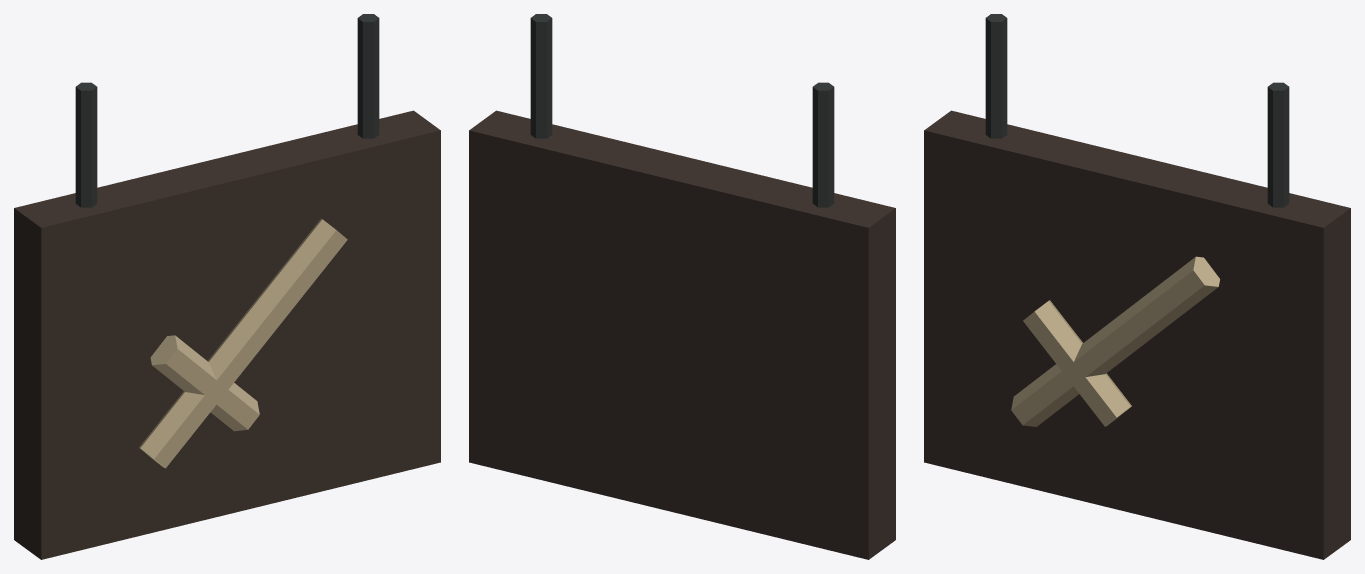
The model's file is sign_weapons.glb.
3 renders of one model, left to right at view 1: azimuth 30°, elevation 25°; view 2: azimuth 150°, elevation 25°; view 3: azimuth 330°, elevation 25°, orthographic.
Parts seen in each view (by area): view 1: signboard, blade mark, guard mark, sign chain, sign chain.001; view 2: signboard, sign chain, sign chain.001; view 3: signboard, blade mark, guard mark, sign chain.001, sign chain.
Boxes of the visible parts, <box> form: signboard: <box>14,110,440,559</box>; blade mark: <box>139,218,347,468</box>; guard mark: <box>150,335,259,431</box>; sign chain: <box>75,82,97,207</box>; sign chain.001: <box>357,14,379,138</box>; signboard: <box>469,110,895,559</box>; sign chain: <box>812,82,834,207</box>; sign chain.001: <box>530,14,552,138</box>; signboard: <box>924,110,1350,559</box>; blade mark: <box>1011,256,1219,426</box>; guard mark: <box>1023,300,1131,426</box>; sign chain.001: <box>1267,82,1289,207</box>; sign chain: <box>985,14,1007,138</box>.
Size of the model in its own units: 0.34 by 0.365 by 0.0591.
